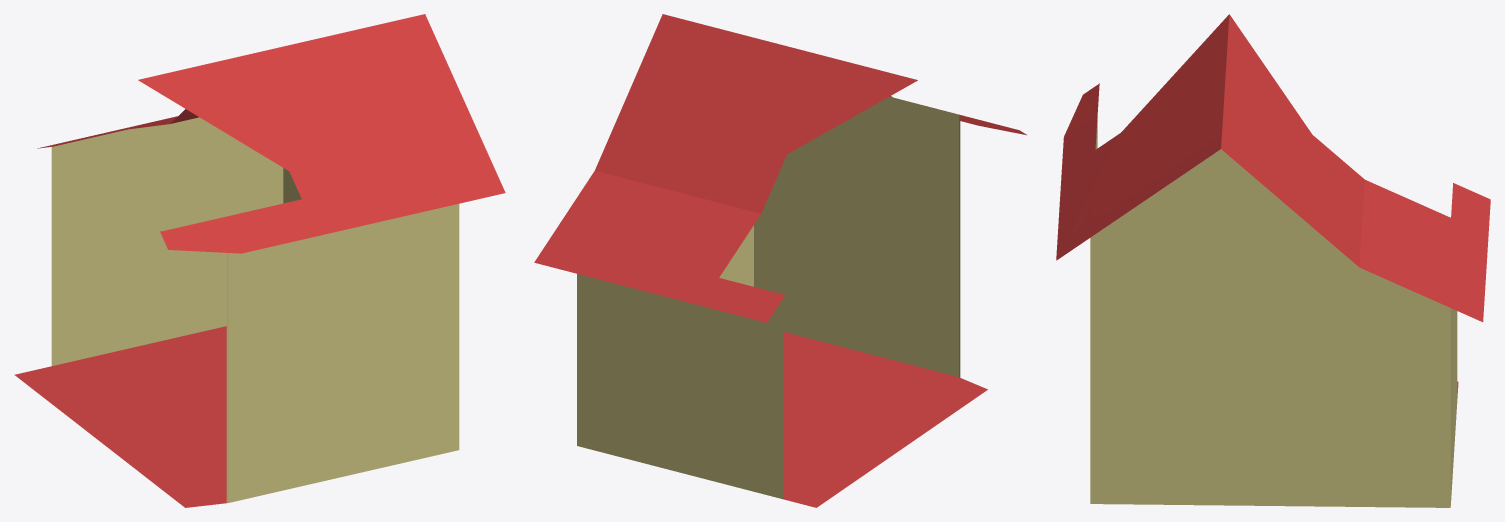
The picture shows the model from 3 angles, left to right: view 1: azimuth 30°, elevation 25°; view 2: azimuth 150°, elevation 25°; view 3: azimuth 270°, elevation 25°; orthographic projection. The views are drawn at different scales.
Bounding box in the file's own units: 11.29 × 13.03 × 12.26.
